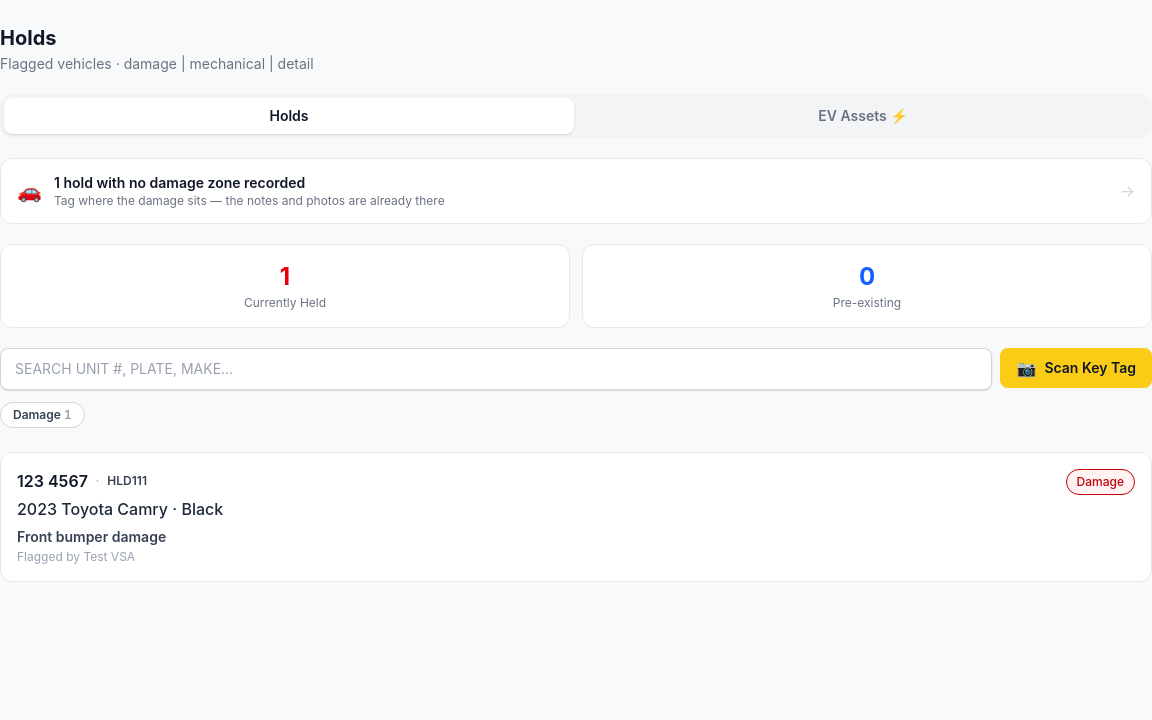
Test: HoldsView — vehicle card interaction › shows confirmation sheet when card is clicked during active search
Type "1234567" into the field with placeholder "Search unit #, plate, make…".
click(496, 369); type("1234567")  # box x1=0 y1=348 x2=992 y2=390
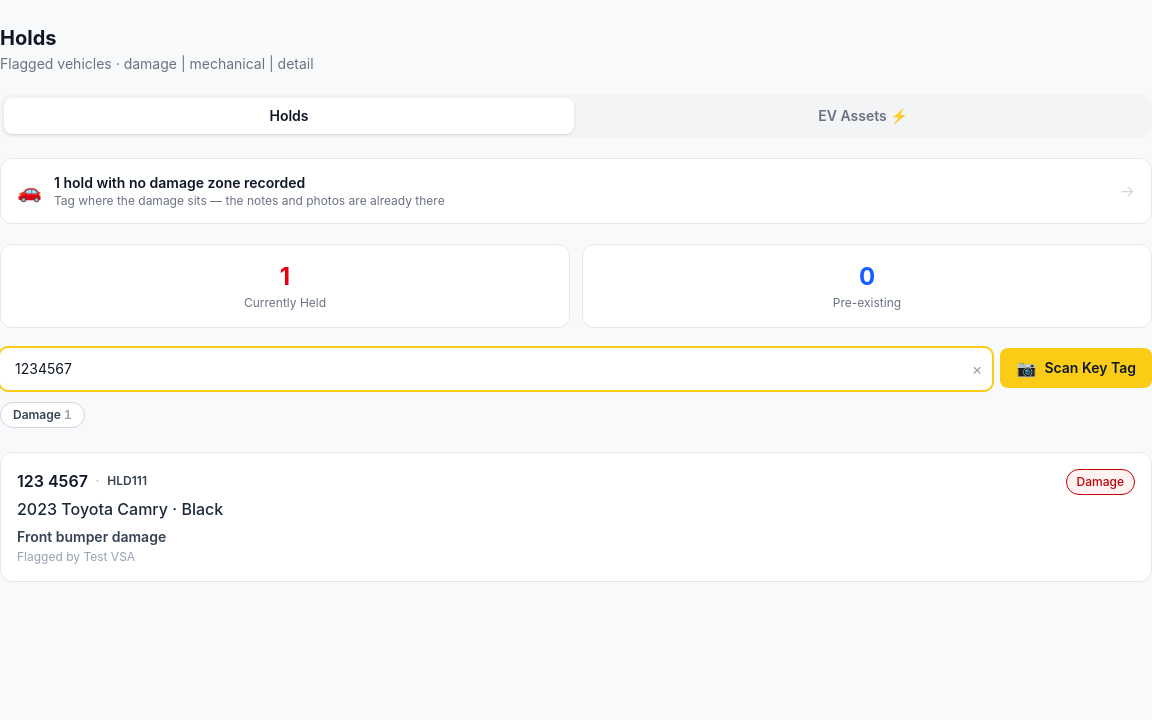
Click the button "Toyota Camry".
click(52, 481)  # box x1=0 y1=452 x2=1151 y2=582
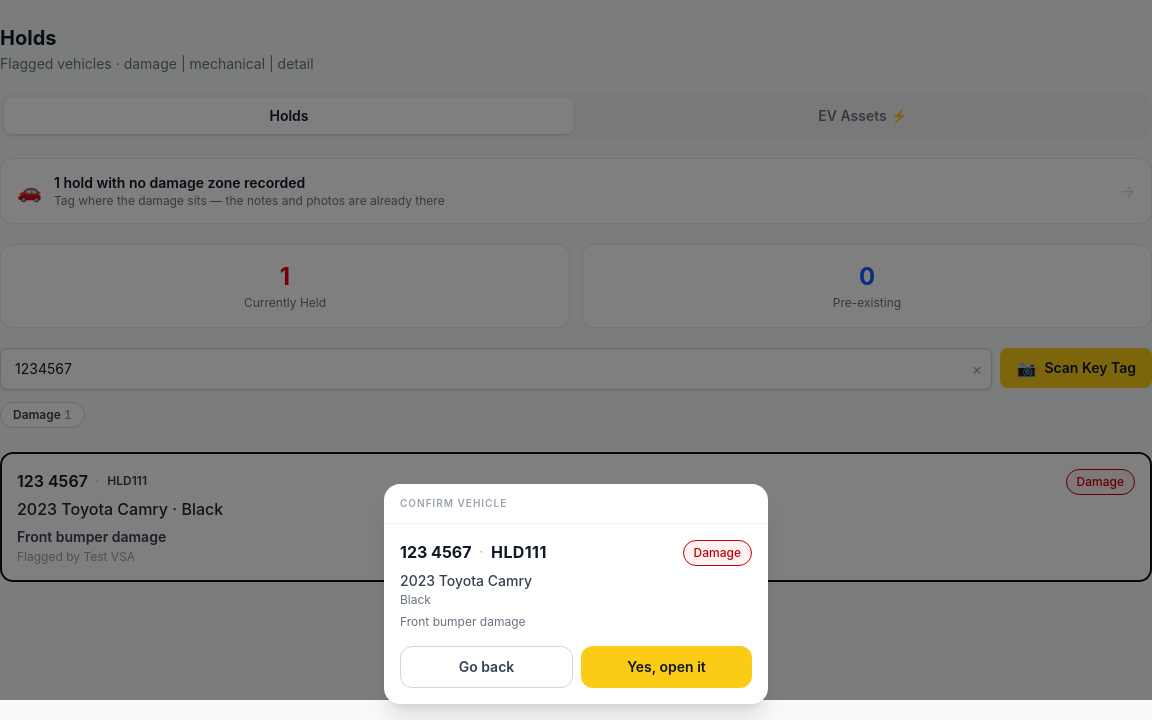
Now the text "Confirm vehicle" is shown, box x1=400 y1=497 x2=507 y2=509
